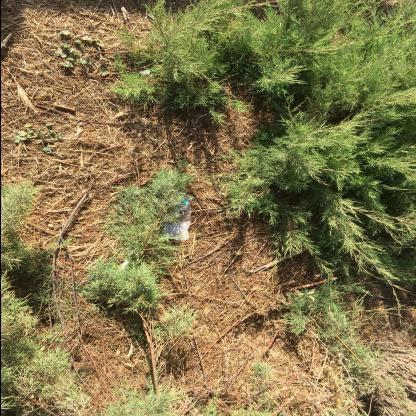plastik: (163, 193, 194, 242)
